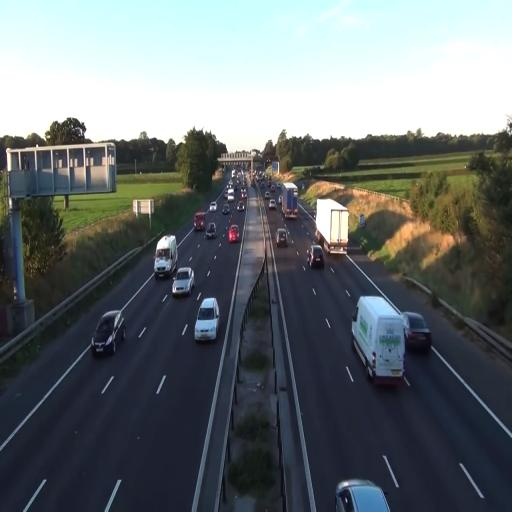vehicle: (350, 293, 407, 388), (350, 293, 406, 388), (335, 478, 391, 512), (316, 198, 348, 254), (91, 309, 125, 358), (194, 296, 220, 343), (403, 312, 432, 354), (154, 234, 178, 279), (155, 234, 178, 278), (172, 267, 194, 298), (282, 184, 299, 219), (310, 245, 324, 269), (275, 226, 290, 248), (228, 222, 240, 244), (194, 210, 205, 230), (205, 218, 217, 236)
